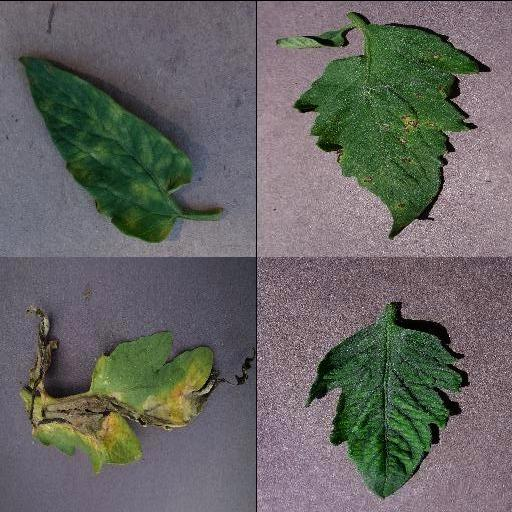Late Blight: (21, 305, 256, 475)
Leaf Mold: (18, 58, 194, 242)
Mosaic Virus: (304, 317, 464, 499)
Septoria: (293, 22, 484, 238)
